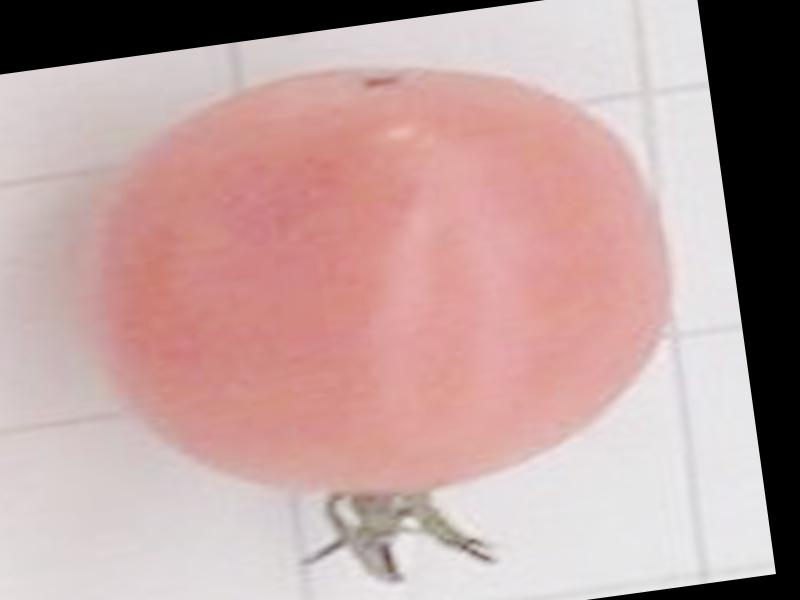Tomato: (57, 26, 694, 530)
